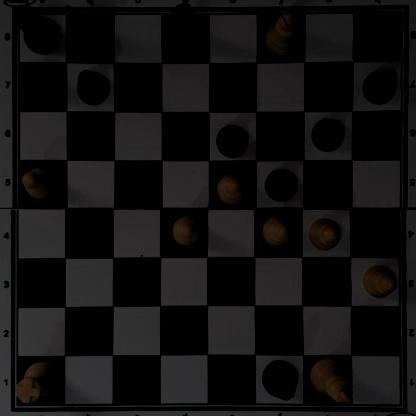black-bishop: (261, 357, 300, 402)
black-king: (167, 3, 205, 59)
black-knight: (65, 6, 106, 52)
black-pawn: (18, 62, 57, 100), (362, 67, 398, 105), (311, 116, 345, 151), (215, 121, 249, 156), (76, 67, 108, 104), (265, 166, 297, 201)
black-rook: (14, 1, 59, 53)
white-bishop: (266, 10, 302, 56)
white-king: (308, 356, 352, 405)
white-pawn: (360, 262, 397, 299), (20, 166, 57, 200), (214, 171, 250, 205), (307, 215, 341, 251), (261, 213, 294, 247), (170, 214, 203, 246)
white-rook: (15, 360, 59, 405)
